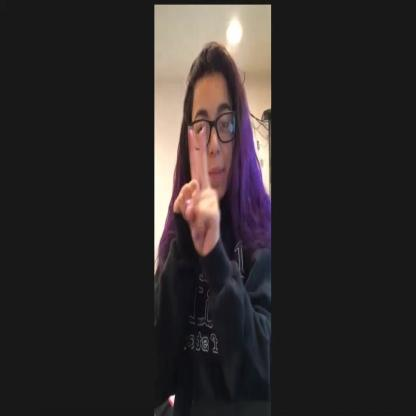NiceToMeetYou: (169, 122, 225, 264)
